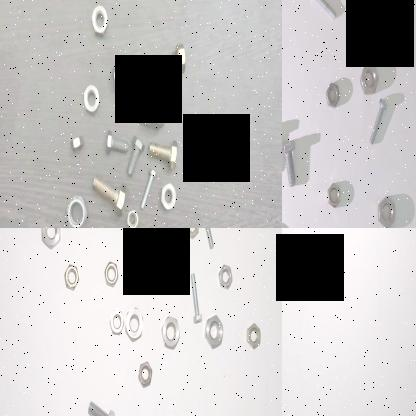Bolts: (91, 176, 127, 216), (146, 136, 180, 172), (368, 94, 388, 152), (282, 138, 299, 193), (305, 0, 339, 27), (188, 269, 202, 329), (102, 130, 130, 156), (128, 136, 144, 181), (140, 168, 156, 209), (131, 78, 143, 124), (195, 228, 219, 251), (86, 400, 118, 416)
NUTS: (358, 56, 382, 100), (374, 187, 398, 228), (202, 314, 226, 350), (123, 305, 145, 343), (66, 191, 88, 228), (160, 314, 182, 351), (80, 80, 102, 116), (172, 38, 190, 81), (160, 179, 180, 217), (325, 175, 343, 211), (89, 4, 109, 34), (326, 76, 342, 112), (39, 228, 62, 251), (147, 251, 163, 283), (245, 321, 262, 351), (103, 258, 121, 286), (108, 306, 124, 337), (64, 264, 80, 294), (138, 359, 154, 388), (110, 66, 124, 96), (218, 263, 233, 291), (71, 131, 84, 155), (126, 228, 152, 240), (185, 228, 199, 242)
